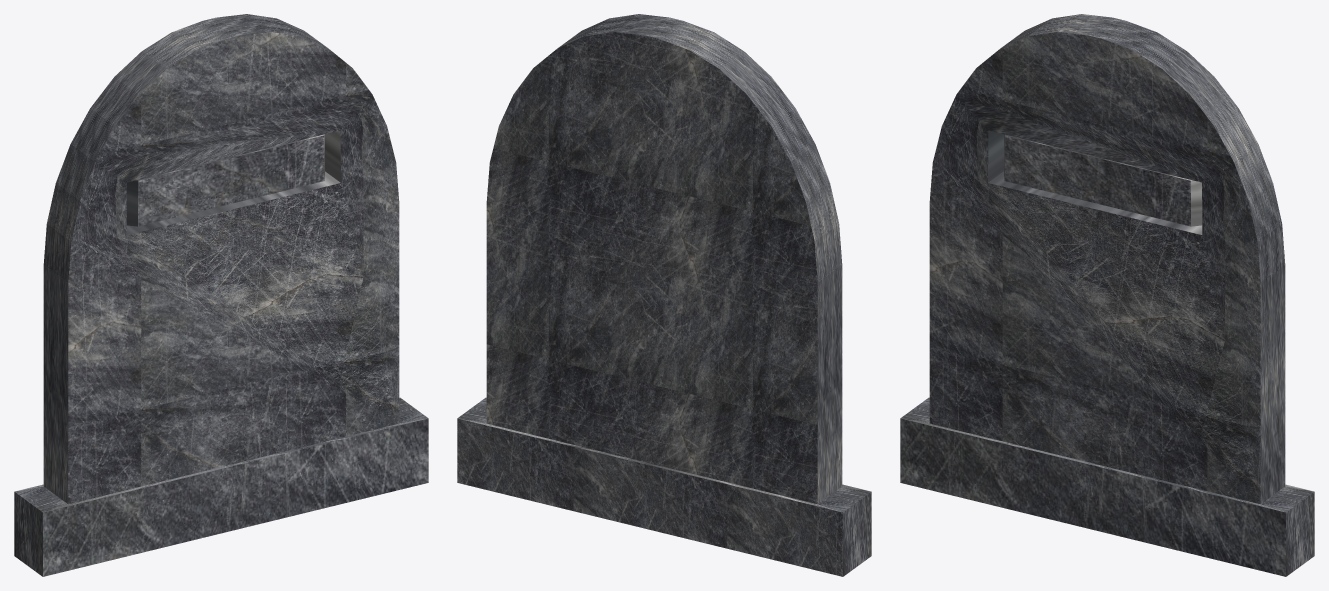
File: Gravestone.fbx
The picture shows the model from 3 angles, left to right: view 1: azimuth 30°, elevation 25°; view 2: azimuth 150°, elevation 25°; view 3: azimuth 330°, elevation 25°; orthographic projection.
Parts seen in each view (by area): view 1: Cube; view 2: Cube; view 3: Cube.
Boxes of the visible parts, box(x1,y1,x2,y2) form: Cube: box(14, 14, 428, 576); Cube: box(457, 14, 871, 576); Cube: box(900, 14, 1314, 576).
Bounding box in the file's own units: 69.09 × 84.06 × 8.87.
